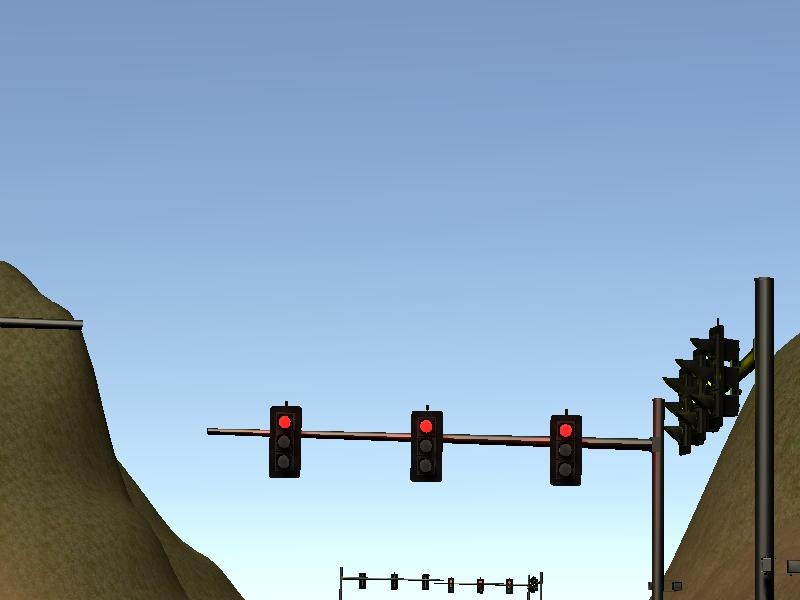red: (547, 413, 584, 488), (407, 409, 444, 483), (267, 403, 303, 479)
